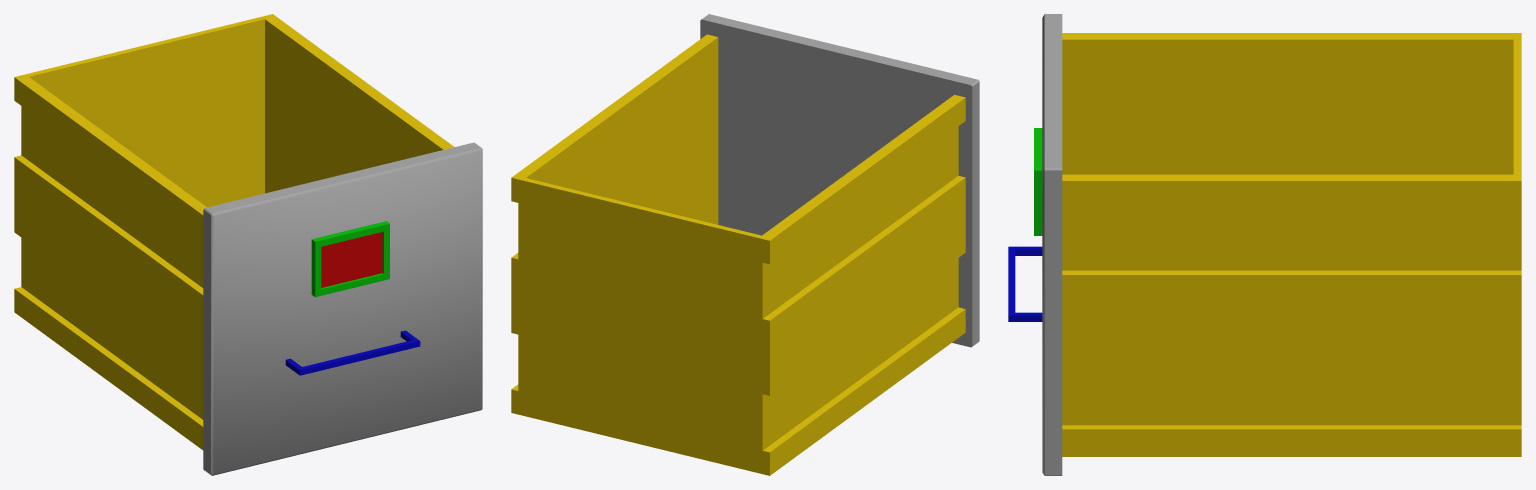
Rendered from DrowerLocker_b_low.fbx.
3 views of the same model, side by side, from view 1: azimuth 30°, elevation 25°; view 2: azimuth 150°, elevation 25°; view 3: azimuth 270°, elevation 25° (orthographic). The views are drawn at different scales.
Parts seen in each view (by area): view 1: polySurface6142; view 2: polySurface6142; view 3: polySurface6142.
Part boxes in pixels (x1,y1,x2,y2): polySurface6142: [14, 14, 482, 475]; polySurface6142: [511, 14, 979, 475]; polySurface6142: [1008, 14, 1521, 475].
Bounding box in the file's own units: 38 × 35.04 × 52.98.
